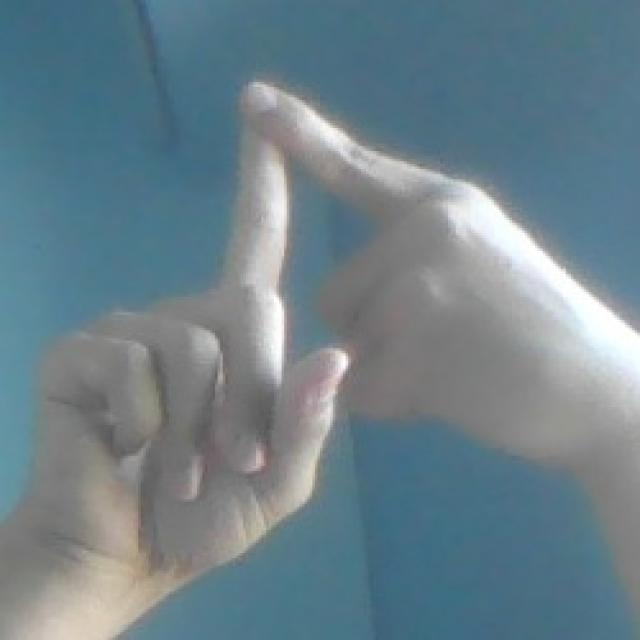Alphabet-E: (0, 82, 640, 640)
